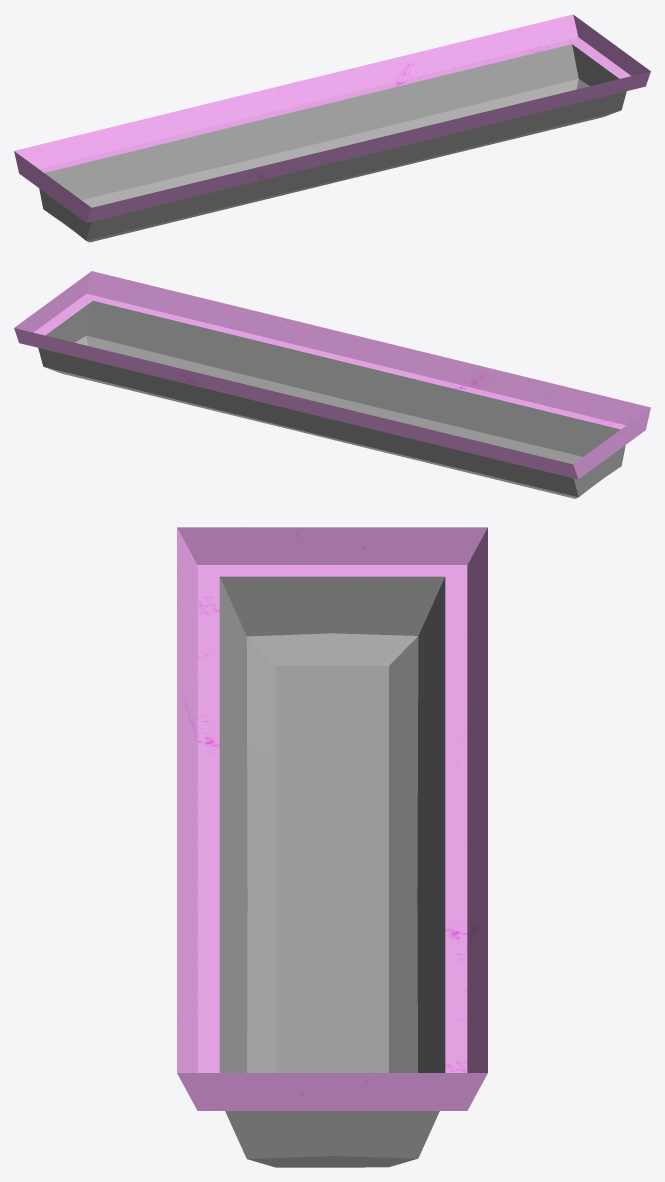
Rendered from Light_03_SM_Low.fbx.
3 renders of one model, top to bottom at view 1: azimuth 30°, elevation 25°; view 2: azimuth 150°, elevation 25°; view 3: azimuth 270°, elevation 25°, orthographic. The views are drawn at different scales.
Visible parts, largest first — view 1: WallLight; view 2: WallLight; view 3: WallLight.
Part boxes in pixels (left/top/right/bottom): WallLight: left=14, top=14, right=650, bottom=242; WallLight: left=14, top=271, right=650, bottom=498; WallLight: left=177, top=527, right=487, bottom=1167.
Size of the model in its own units: 69.58 by 6.93 by 16.76.
Materials: 2 (1 with a texture image).
